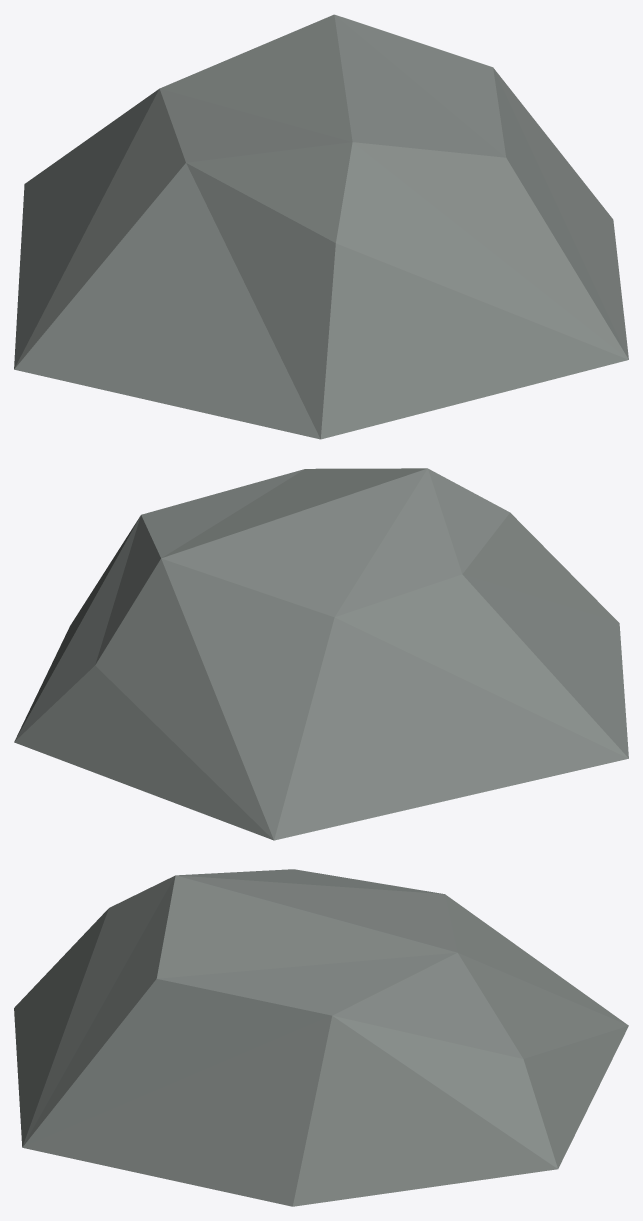
File: SM_Generic_Small_Rocks_05.fbx
The picture shows the model from 3 angles, top to bottom: view 1: azimuth 30°, elevation 25°; view 2: azimuth 150°, elevation 25°; view 3: azimuth 270°, elevation 25°; orthographic projection. The views are drawn at different scales.
Visible parts, largest first — view 1: SM_Generic_Small_Rocks_05; view 2: SM_Generic_Small_Rocks_05; view 3: SM_Generic_Small_Rocks_05.
Part boxes in pixels (<box>): SM_Generic_Small_Rocks_05: <box>14,14,628,439</box>; SM_Generic_Small_Rocks_05: <box>14,468,628,840</box>; SM_Generic_Small_Rocks_05: <box>14,869,628,1206</box>.
Size of the model in its own units: 26.14 by 8.43 by 25.21.
